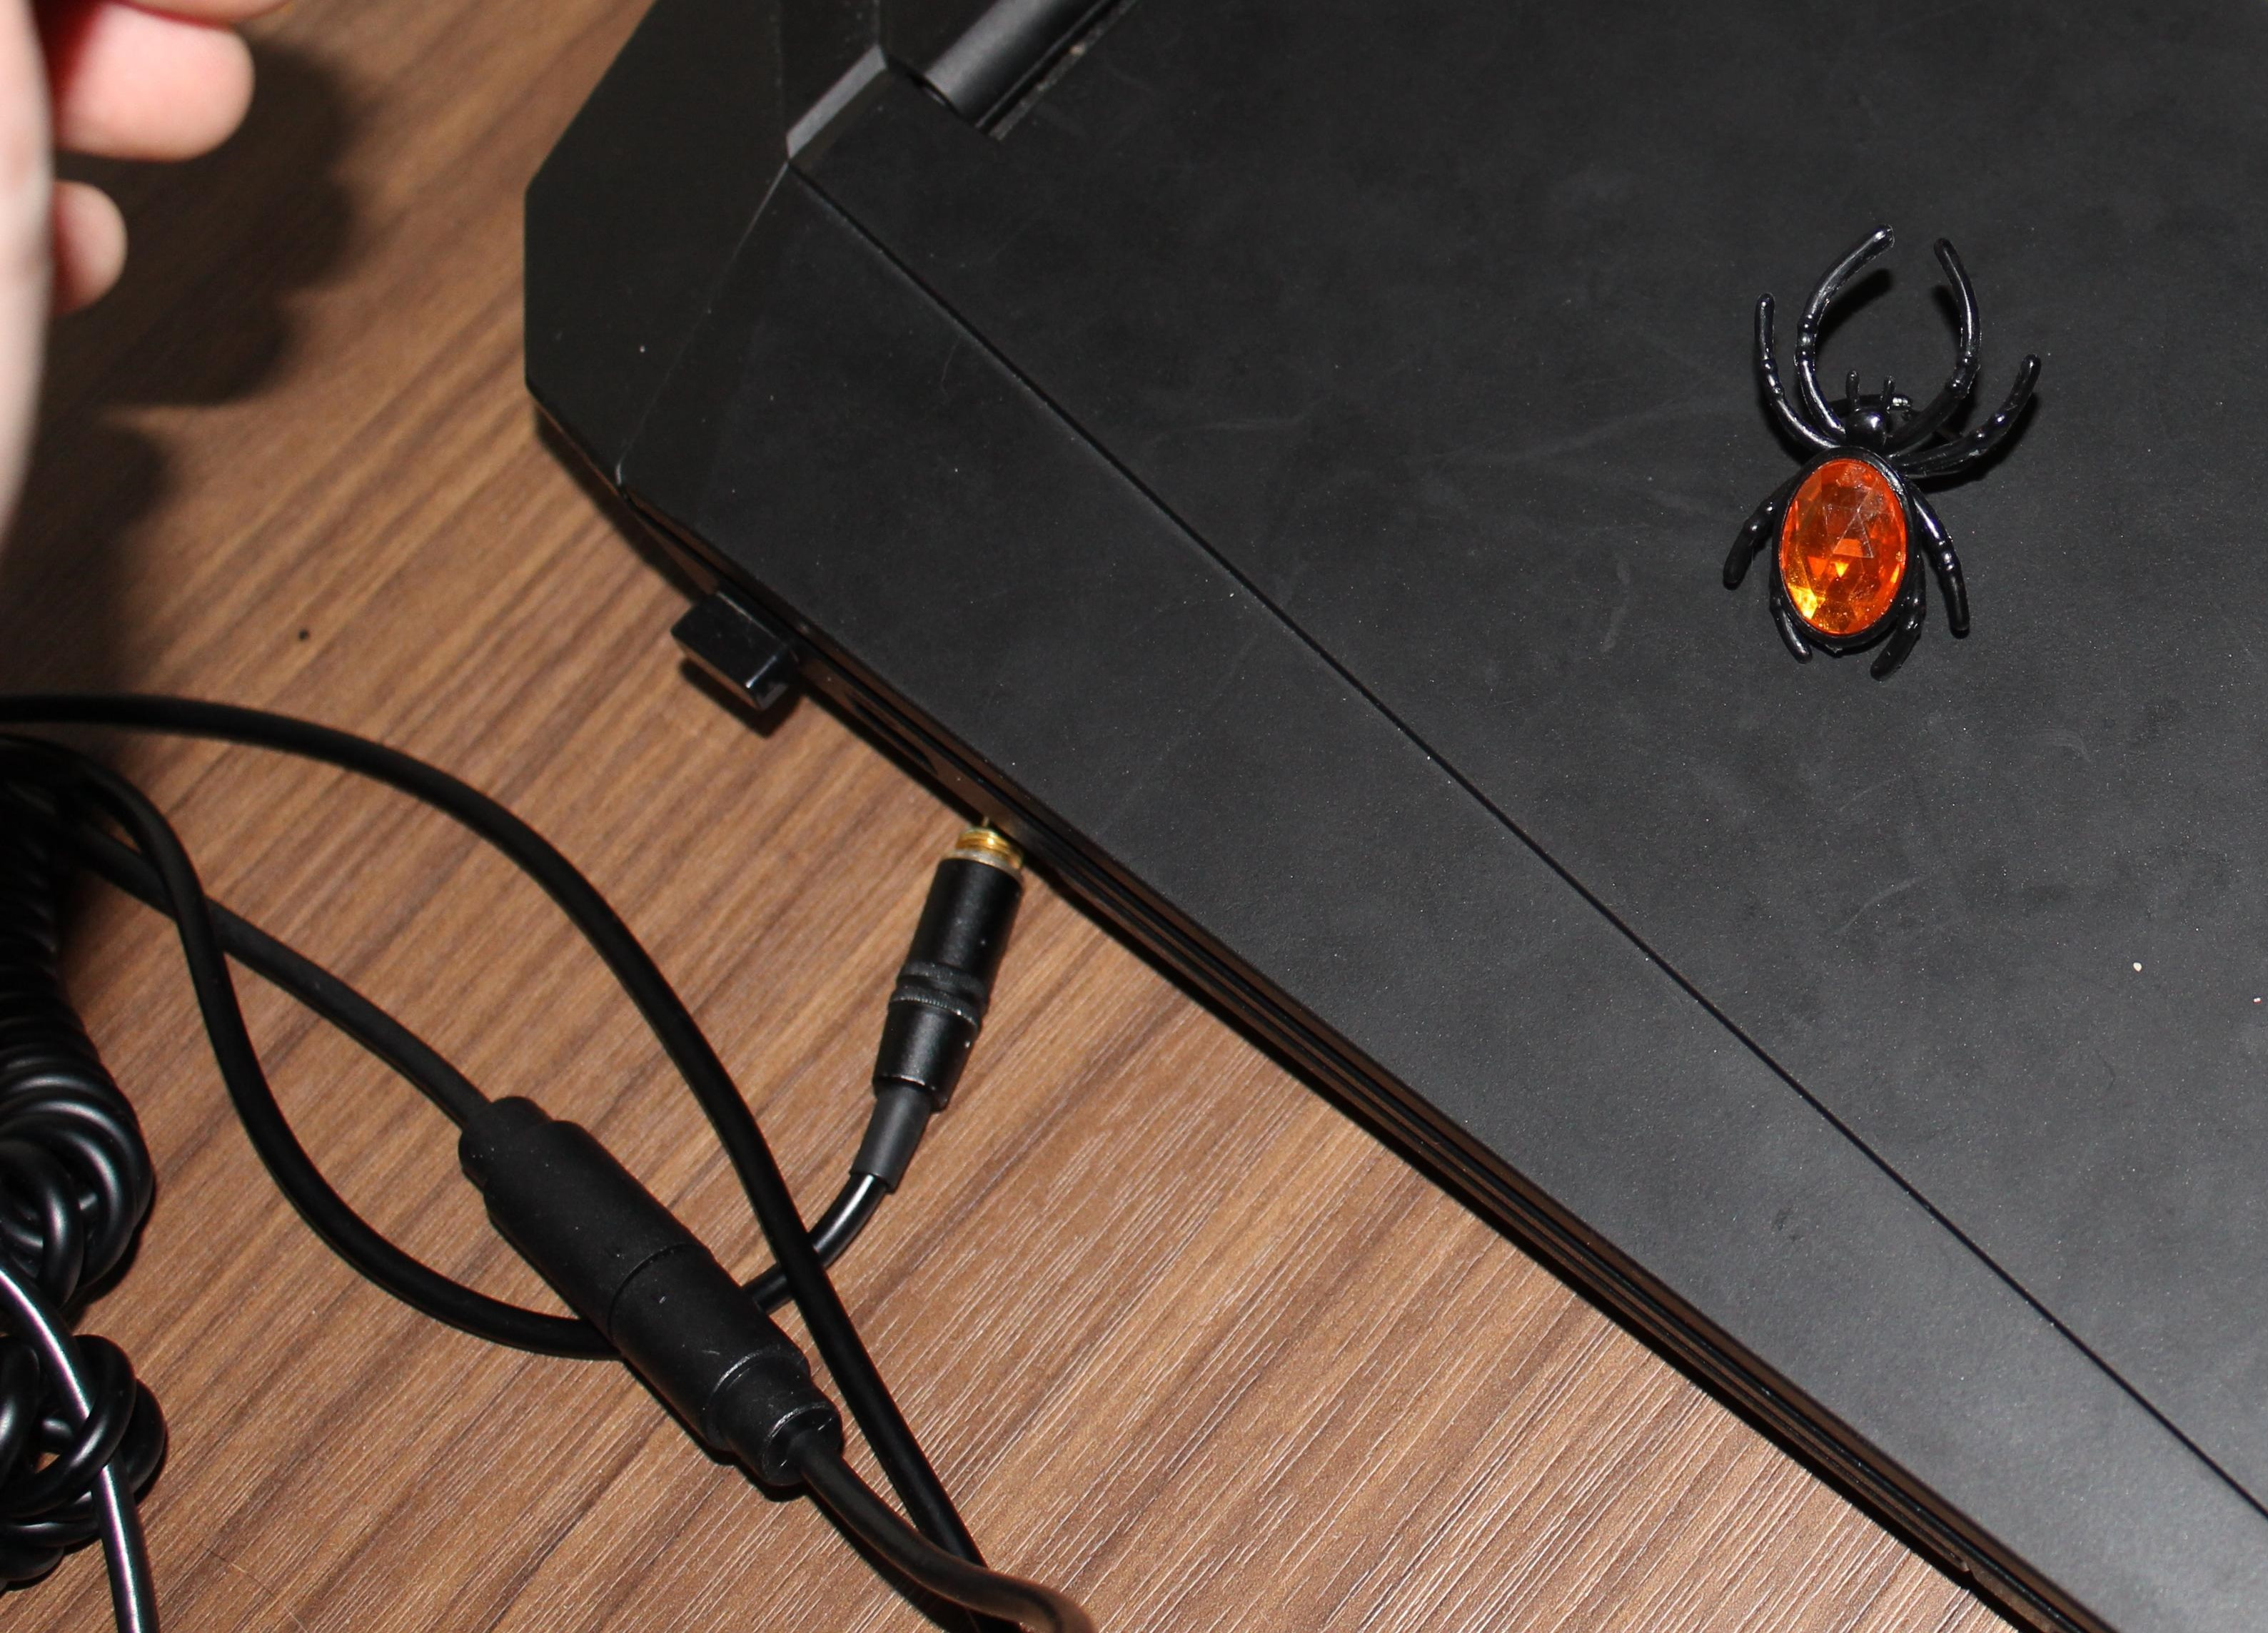spiderRing: (1683, 199, 2074, 707)
